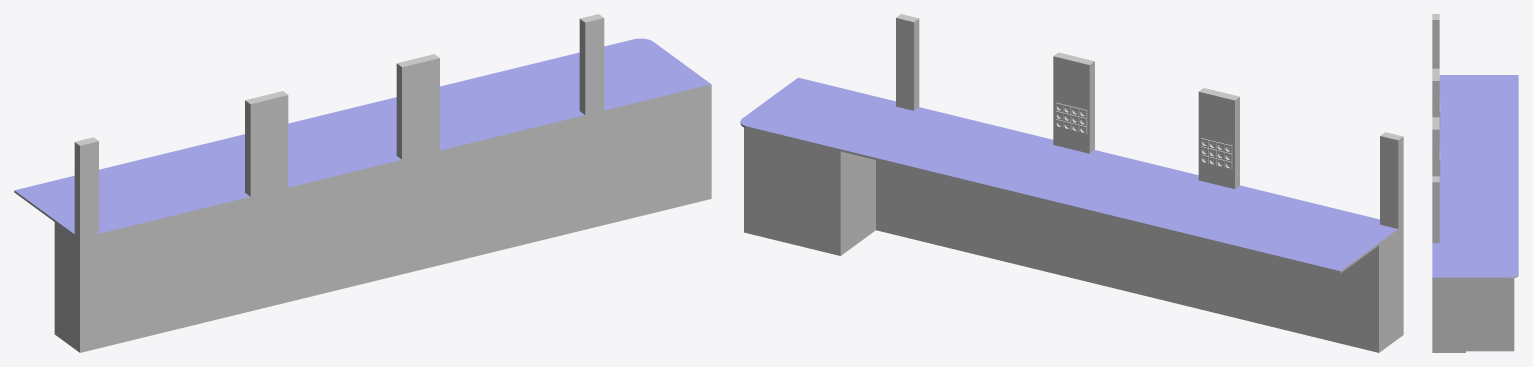
Rendered from TableHalf.fbx.
3 renders of one model, left to right at view 1: azimuth 30°, elevation 25°; view 2: azimuth 150°, elevation 25°; view 3: azimuth 270°, elevation 25°, orthographic. The views are drawn at different scales.
Parts seen in each view (by area): view 1: TableHalf; view 2: TableHalf; view 3: TableHalf.
Boxes of the visible parts, x1,y1,x2,y2 form: TableHalf: [14, 14, 711, 352]; TableHalf: [740, 14, 1403, 352]; TableHalf: [1432, 14, 1518, 352].
Bounding box in the file's own units: 500 × 157 × 90.
